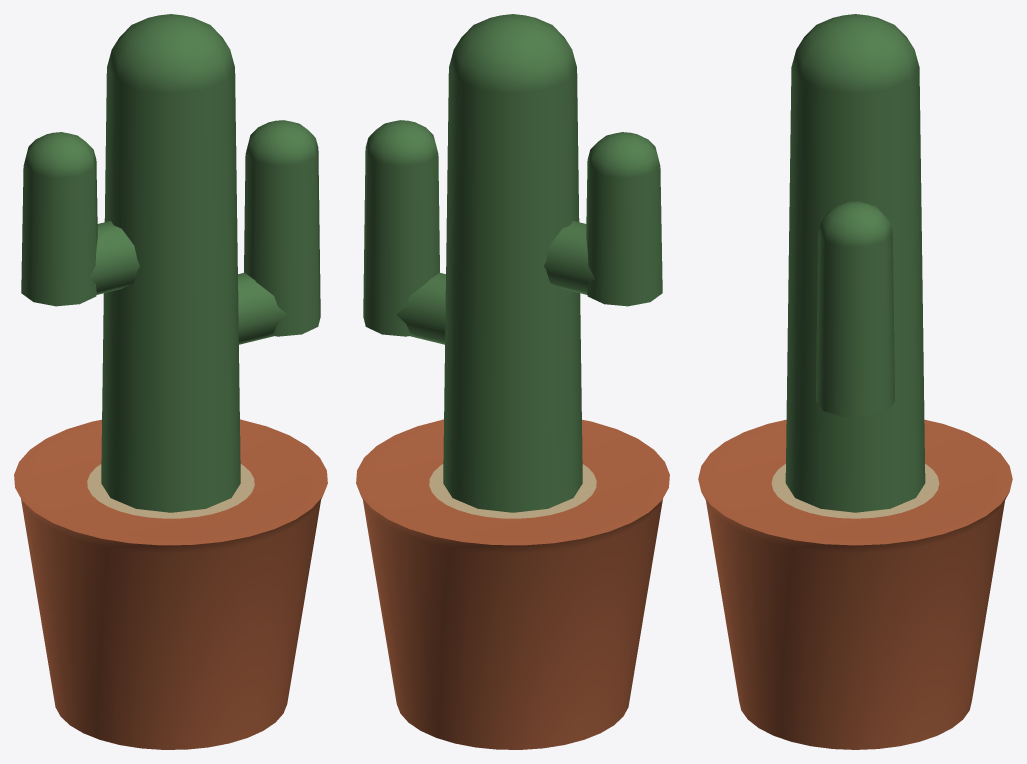
The model's file is cato.glb.
3 views of the same model, side by side, from view 1: azimuth 30°, elevation 25°; view 2: azimuth 150°, elevation 25°; view 3: azimuth 270°, elevation 25° (orthographic).
Visible parts, largest first — view 1: p; view 2: p; view 3: p.
Part boxes in pixels (bbox=[...]): p: bbox=[14, 14, 327, 749]; p: bbox=[356, 14, 669, 749]; p: bbox=[698, 14, 1012, 749].
Size of the model in its own units: 0.2847 by 0.644 by 0.27.
